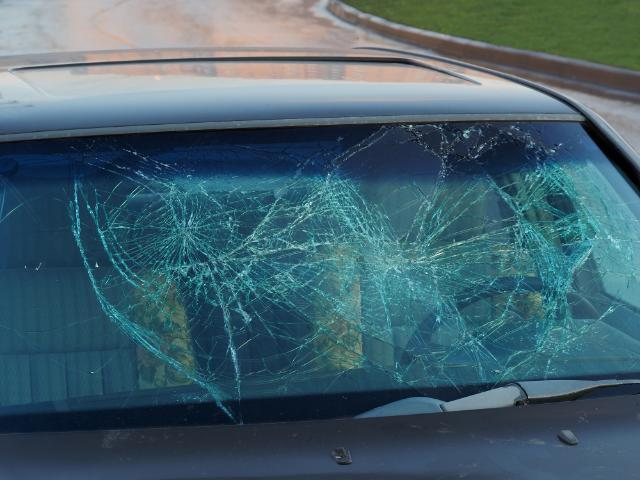glass shatter: (0, 120, 640, 433)
